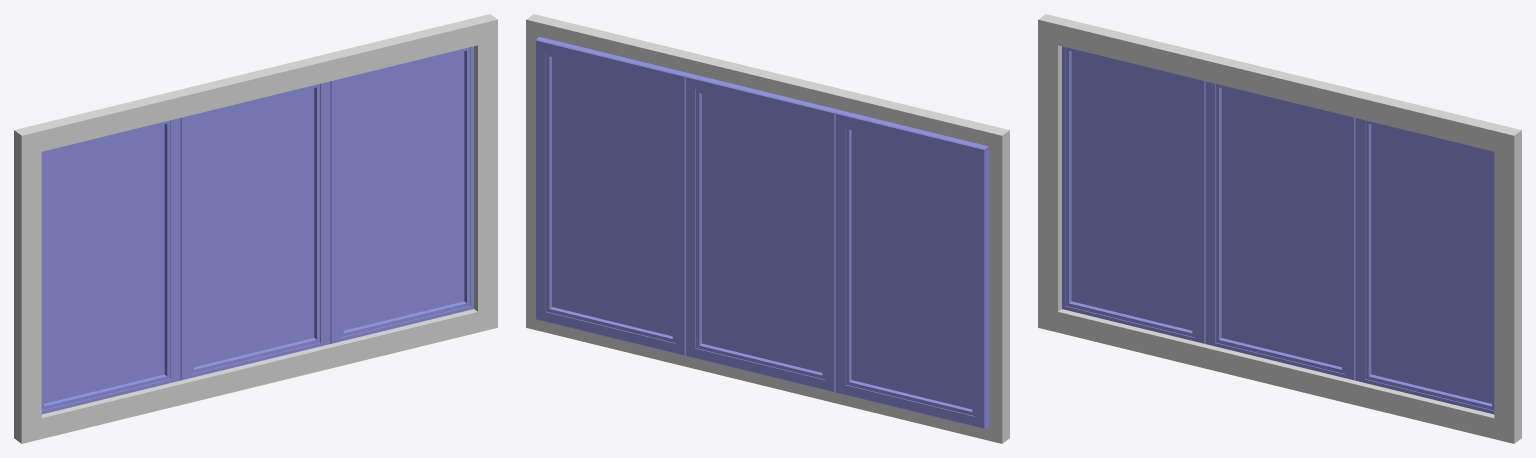
Rendered from window313a.fbx.
The picture shows the model from 3 angles, left to right: view 1: azimuth 30°, elevation 25°; view 2: azimuth 150°, elevation 25°; view 3: azimuth 330°, elevation 25°; orthographic projection.
Parts seen in each view (by area): view 1: Window.313a, Window Panel.008, Window Panel.009, Window Panel.007; view 2: Window Panel.007, Window Panel.008, Window Panel.009, Window.313a; view 3: Window.313a, Window Panel.008, Window Panel.007, Window Panel.009.
Boxes of the visible parts, <box> form: Window.313a: <box>14,14,497,443</box>; Window Panel.008: <box>180,81,330,380</box>; Window Panel.009: <box>330,46,473,343</box>; Window Panel.007: <box>41,118,180,414</box>; Window Panel.007: <box>835,110,988,429</box>; Window Panel.008: <box>686,73,838,392</box>; Window Panel.009: <box>536,37,688,355</box>; Window.313a: <box>526,14,1009,443</box>; Window.313a: <box>1038,14,1521,443</box>; Window Panel.008: <box>1205,81,1355,380</box>; Window Panel.007: <box>1062,46,1205,343</box>; Window Panel.009: <box>1355,118,1494,414</box>.
Bounding box in the file's own units: 215 × 133 × 9.
